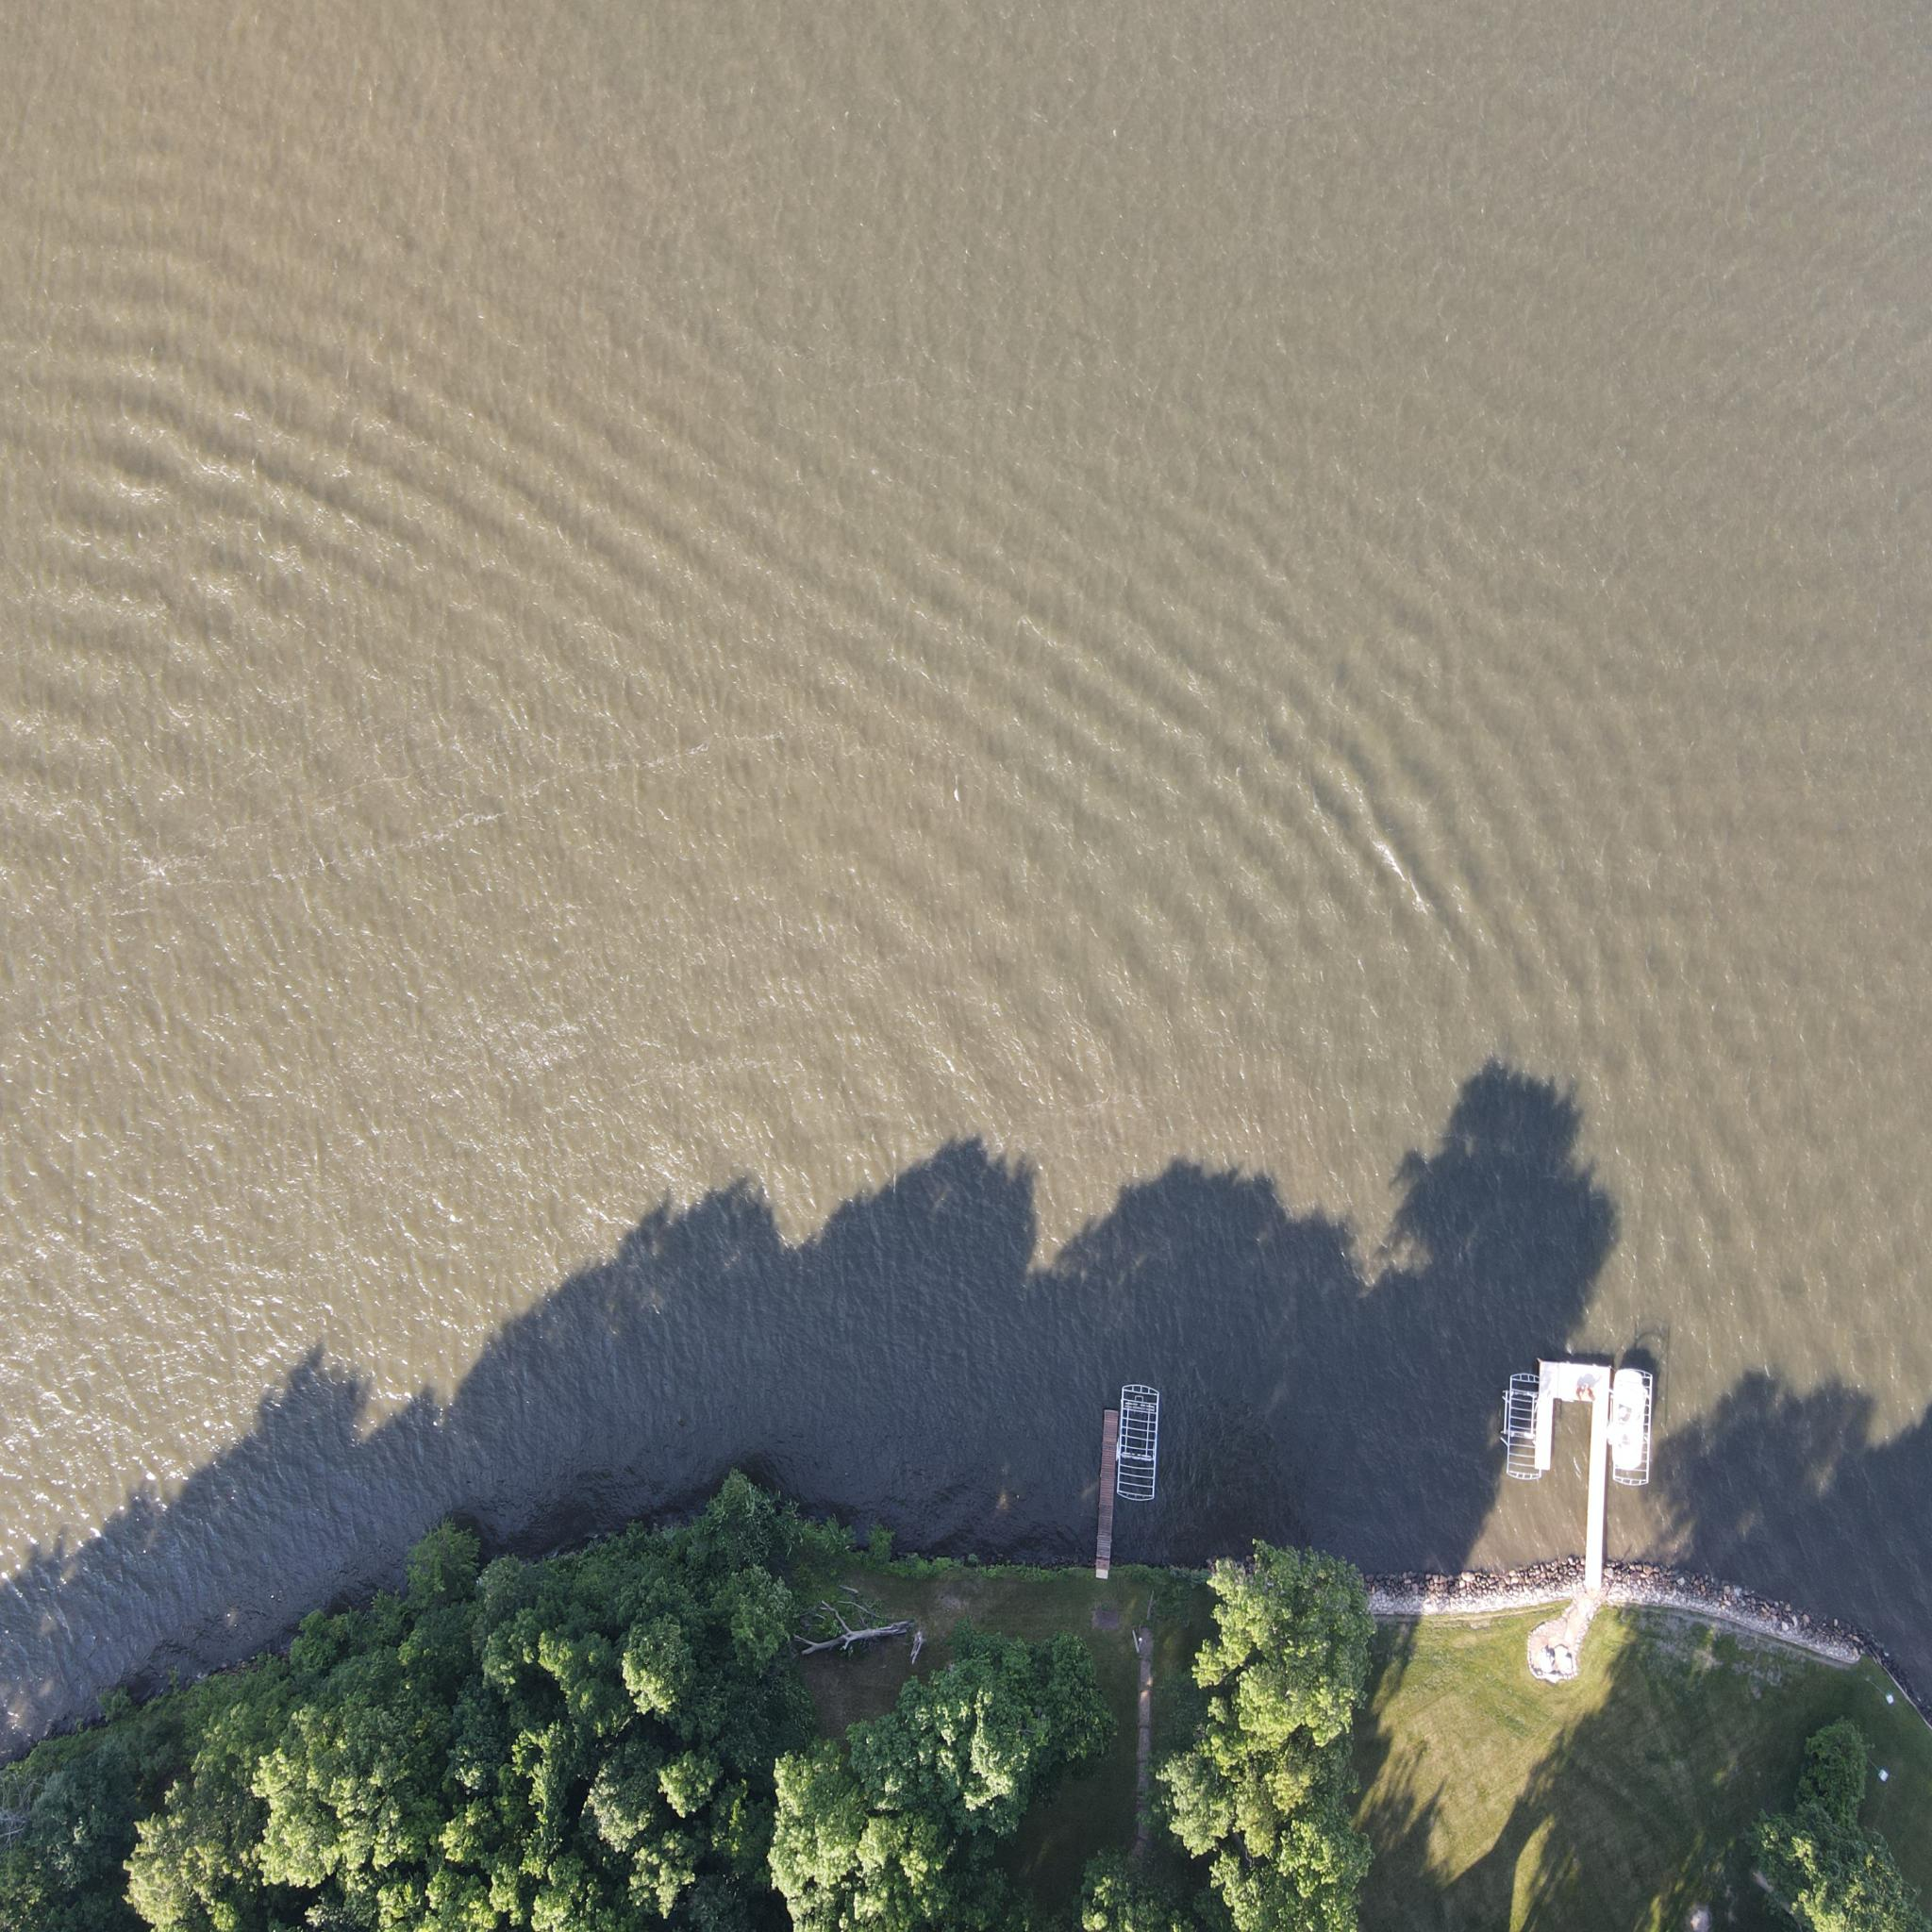dock: (1530, 1339, 1614, 1599), (1088, 1398, 1125, 1591)
lift: (1111, 1376, 1164, 1511), (1606, 1359, 1660, 1491), (1497, 1362, 1548, 1488)
